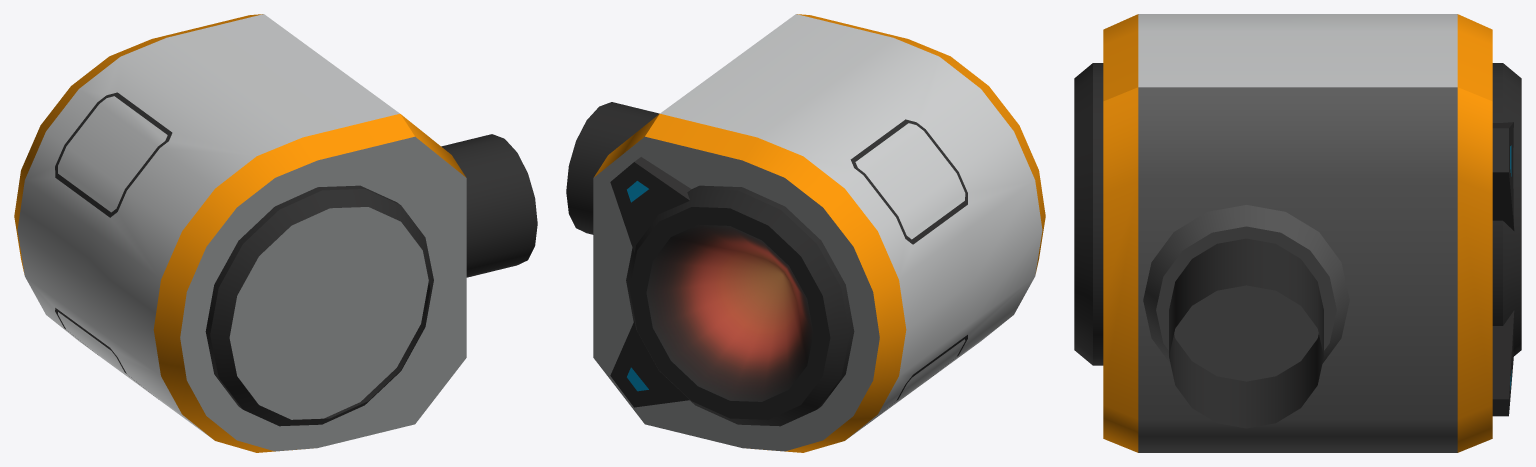
The model's file is Turret_003_Part_03.fbx.
The picture shows the model from 3 angles, left to right: view 1: azimuth 30°, elevation 25°; view 2: azimuth 150°, elevation 25°; view 3: azimuth 270°, elevation 25°; orthographic projection. The views are drawn at different scales.
Parts seen in each view (by area): view 1: Turret_003_Part_03; view 2: Turret_003_Part_03; view 3: Turret_003_Part_03.
Part boxes in pixels (bbox=[...]): Turret_003_Part_03: bbox=[14, 14, 537, 452]; Turret_003_Part_03: bbox=[566, 14, 1045, 452]; Turret_003_Part_03: bbox=[1074, 14, 1521, 452].
Size of the model in its own units: 120 by 100 by 90.38.
